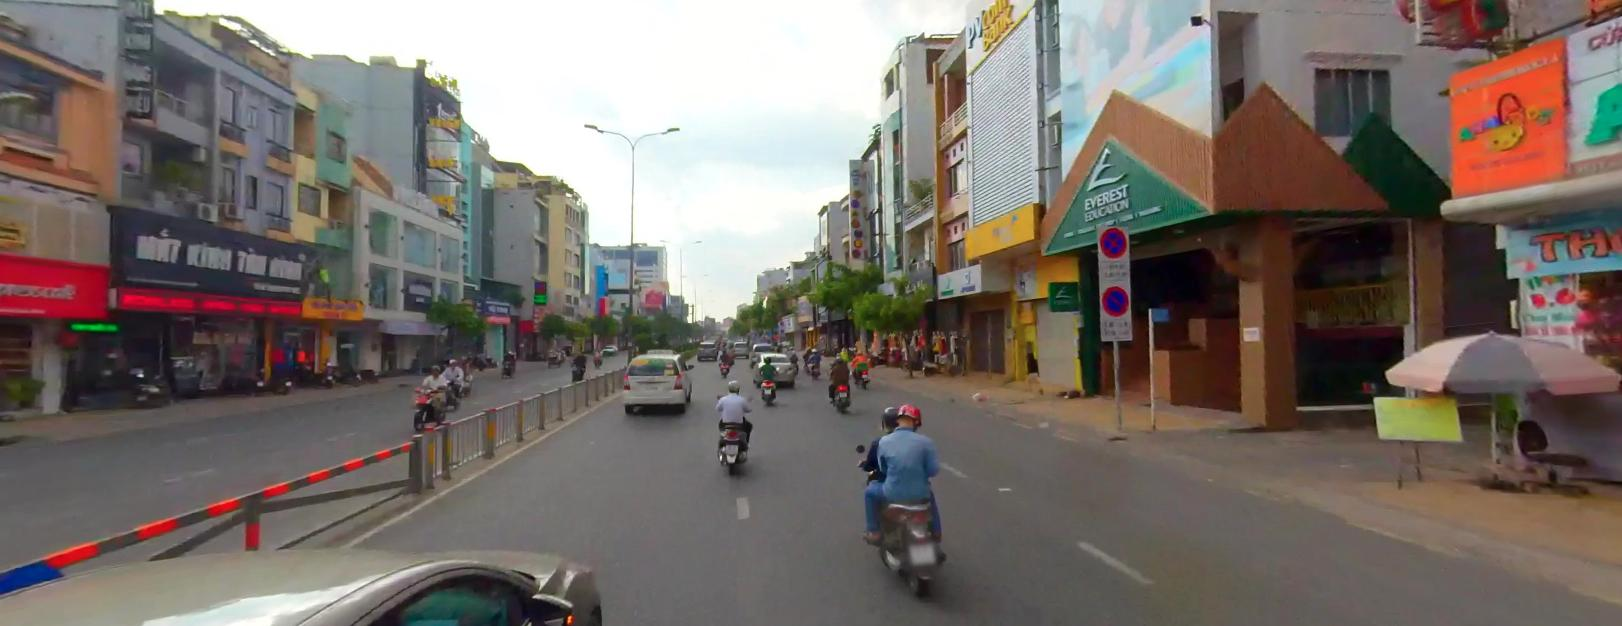Cam dung va do: (1101, 284, 1128, 315), (1100, 226, 1127, 256)
